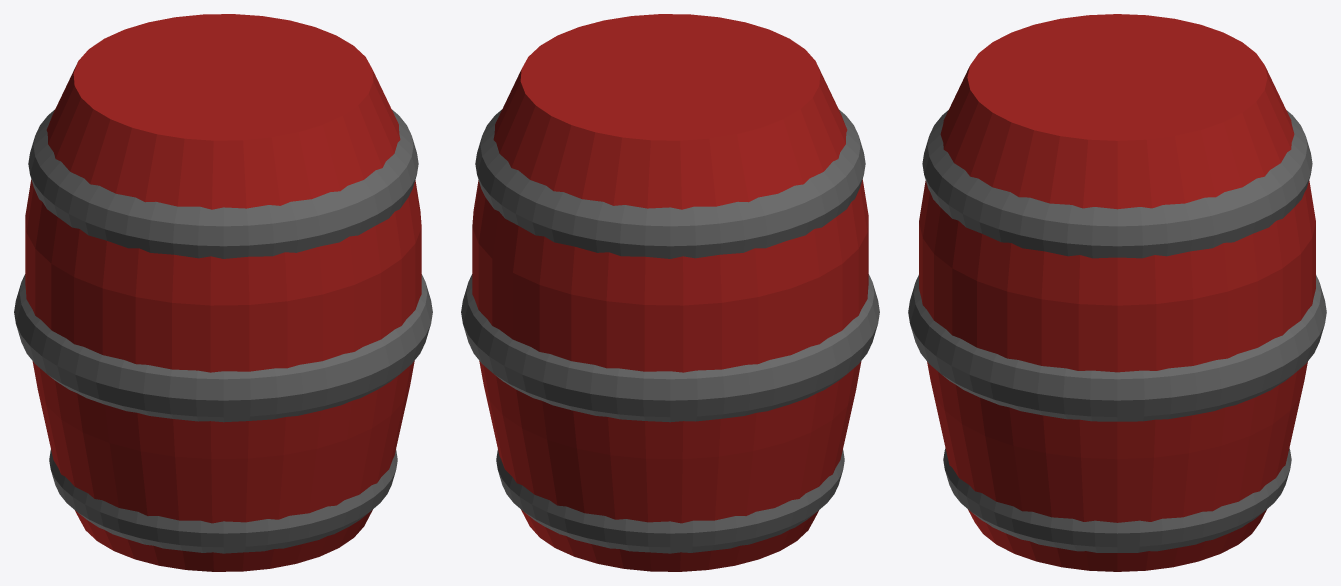
File: TNT.fbx
3 renders of one model, left to right at view 1: azimuth 30°, elevation 25°; view 2: azimuth 150°, elevation 25°; view 3: azimuth 270°, elevation 25°, orthographic.
Visible parts, largest first — view 1: Torus.002; view 2: Torus.002; view 3: Torus.002.
Part boxes in pixels (x1,y1,x2,y2): Torus.002: [14, 14, 432, 571]; Torus.002: [461, 14, 879, 571]; Torus.002: [908, 14, 1326, 571].
Size of the model in its own units: 288 by 328 by 288.
